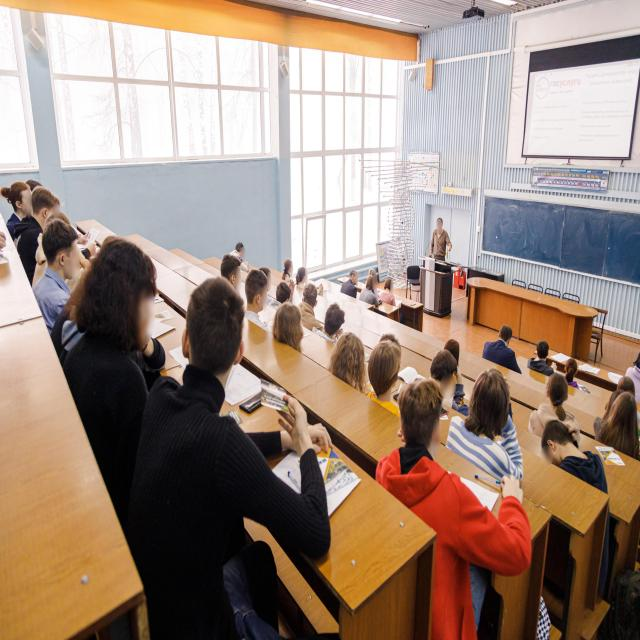Person: (145, 277, 323, 640), (60, 210, 205, 527), (368, 386, 484, 640), (36, 206, 84, 332), (542, 416, 600, 498), (526, 370, 581, 440), (596, 385, 639, 466), (321, 326, 367, 394), (273, 298, 312, 370), (364, 343, 404, 410), (424, 351, 464, 410), (479, 320, 519, 374), (1, 180, 32, 249), (213, 240, 243, 301), (242, 271, 274, 327), (27, 185, 58, 242), (424, 216, 459, 264), (320, 298, 350, 342), (559, 354, 589, 396), (297, 282, 321, 334), (443, 335, 465, 376), (529, 339, 553, 376), (232, 237, 251, 273), (292, 264, 316, 292), (362, 274, 379, 313), (344, 268, 361, 306), (270, 278, 292, 305), (380, 278, 397, 309), (279, 256, 294, 280), (369, 265, 377, 282)
